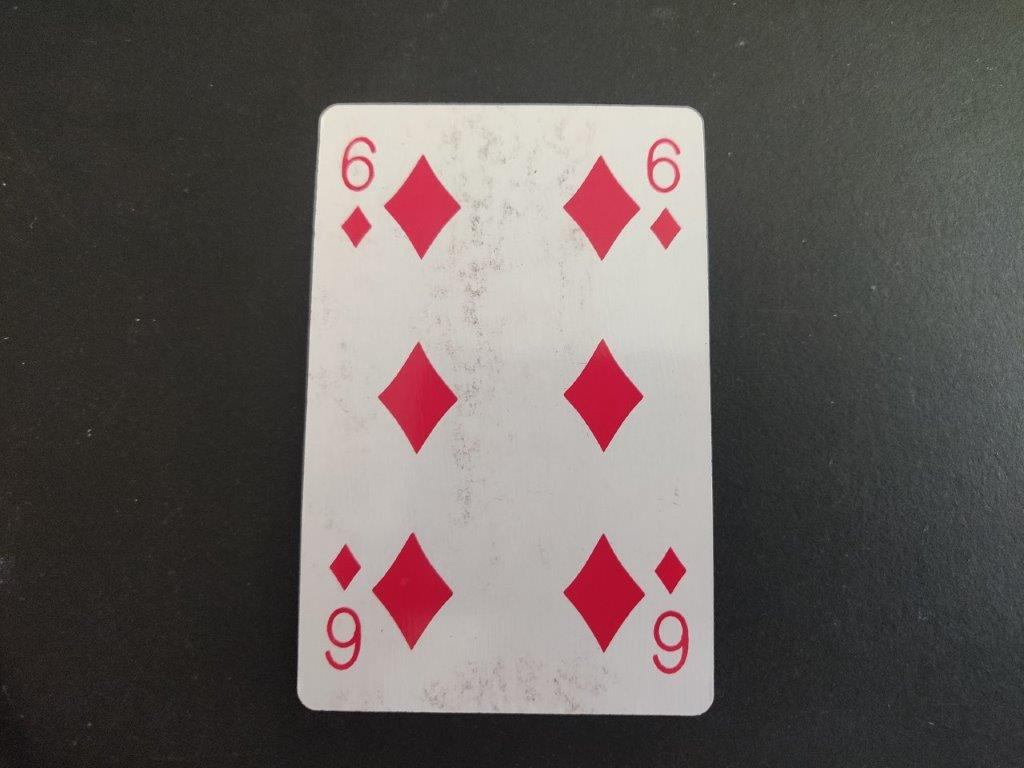6D: (336, 131, 382, 258), (643, 135, 686, 259)
